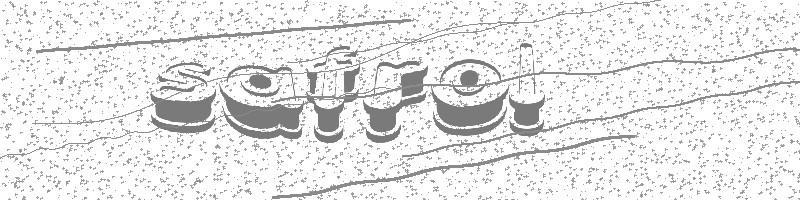a: (220, 65, 303, 139)
f: (307, 47, 359, 144)
l: (510, 43, 546, 136)
o: (432, 59, 508, 136)
r: (363, 61, 428, 143)
s: (151, 63, 217, 133)
